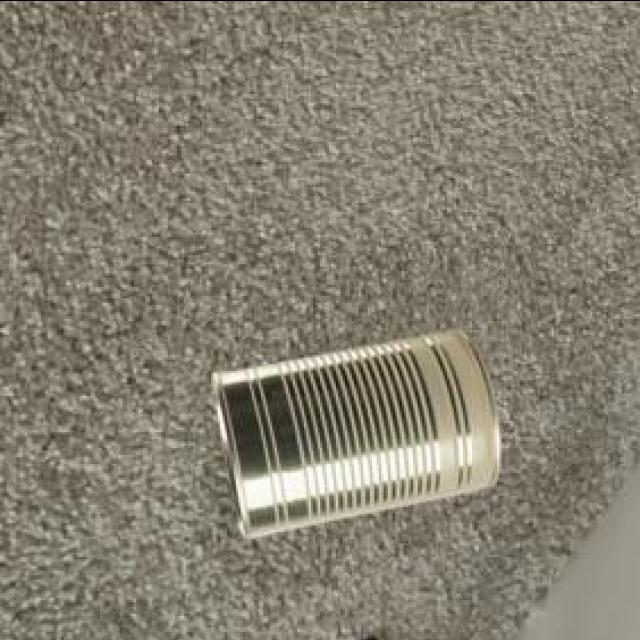logam: (217, 326, 503, 534)
